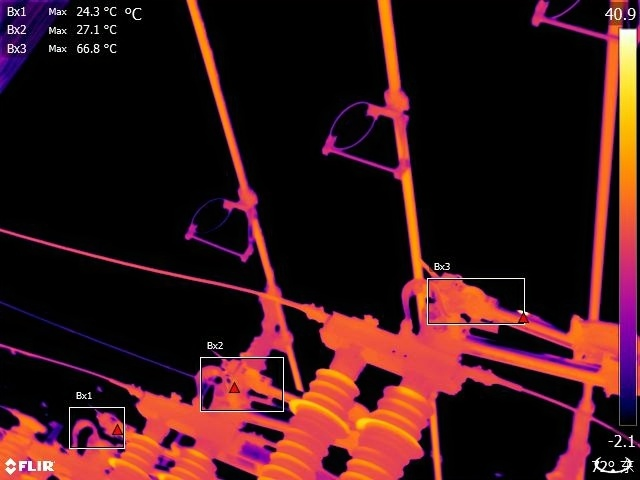post insulator: (252, 365, 364, 480), (335, 379, 441, 480), (111, 425, 166, 480), (164, 433, 217, 480)
switch: (402, 267, 620, 378), (196, 354, 361, 447)
